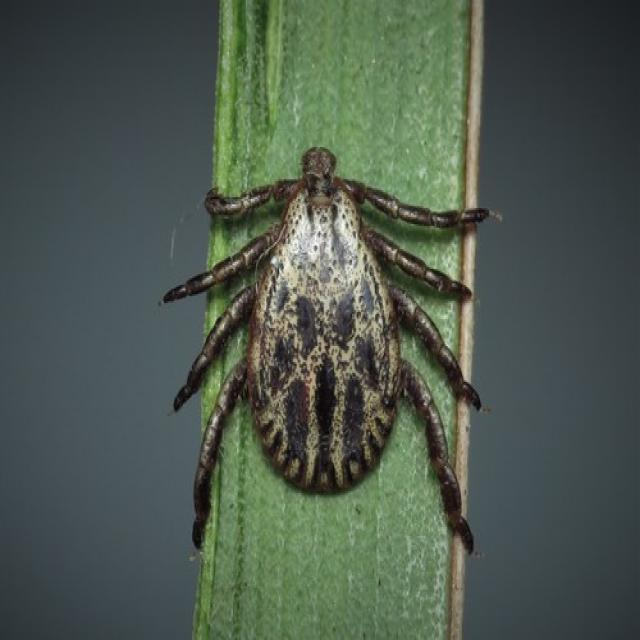Dermacentor Reticulatus-M: (161, 149, 489, 552)
